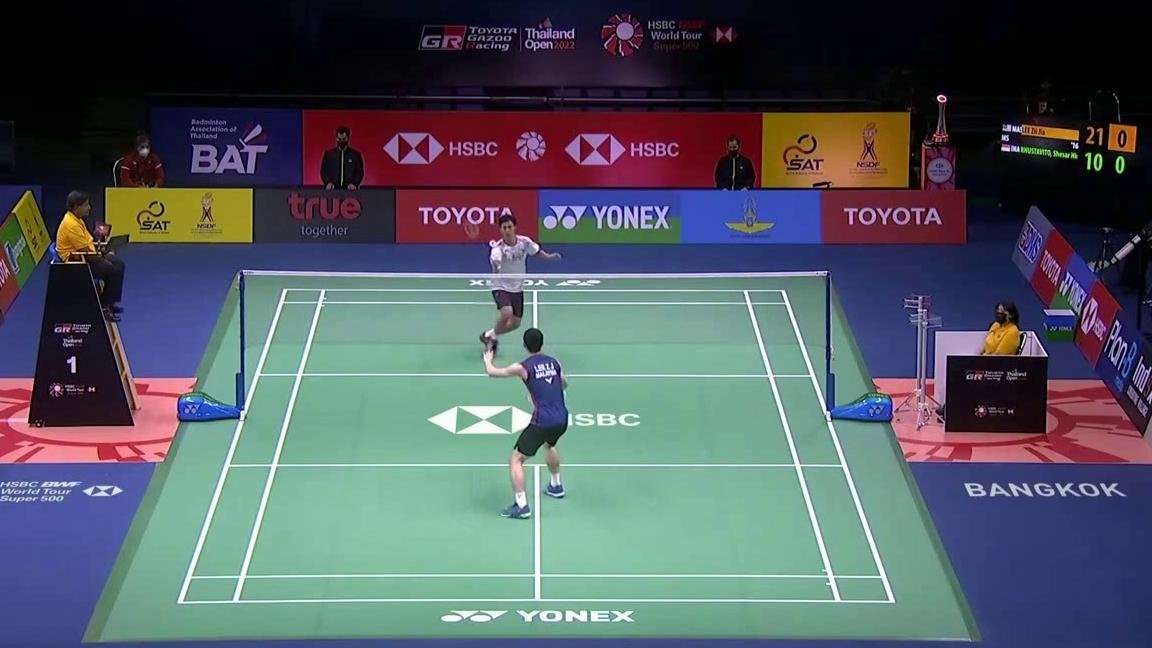racket: (464, 220, 499, 269)
shuttle: (489, 239, 497, 248)
